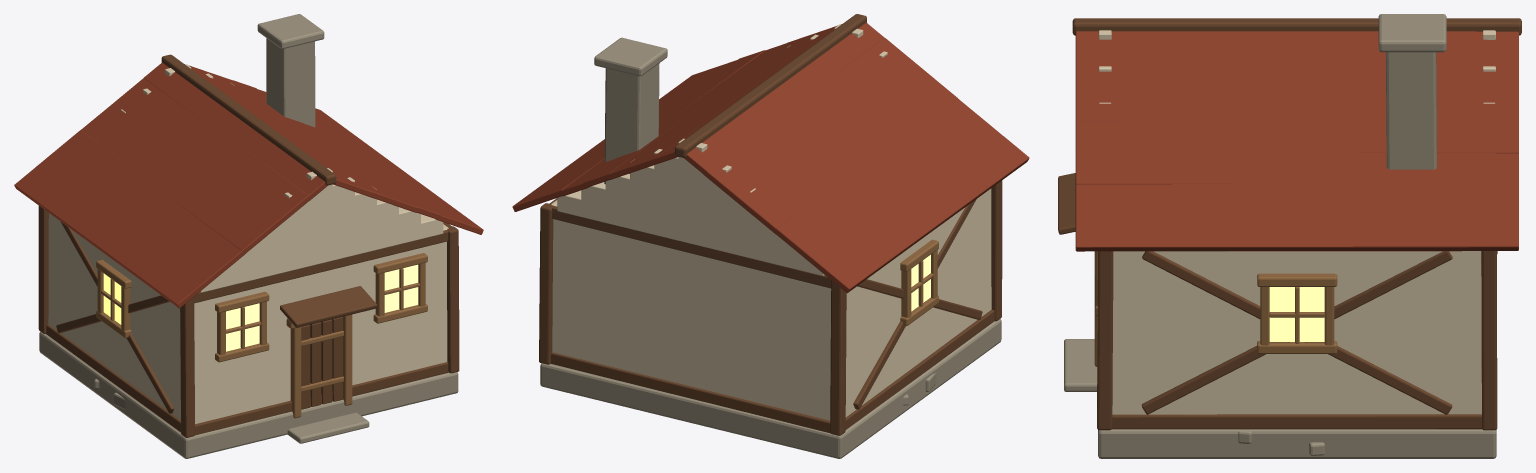
File: maison_a.glb
3 renders of one model, left to right at view 1: azimuth 30°, elevation 25°; view 2: azimuth 150°, elevation 25°; view 3: azimuth 270°, elevation 25°, orthographic. The views are drawn at different scales.
Parts seen in each view (by area): view 1: maison_a; view 2: maison_a; view 3: maison_a.
Part boxes in pixels (x1,y1,x2,y2): maison_a: (14, 14, 483, 458); maison_a: (512, 14, 1029, 458); maison_a: (1058, 14, 1521, 458).
Size of the model in its own units: 8.12 by 7.45 by 7.85.
